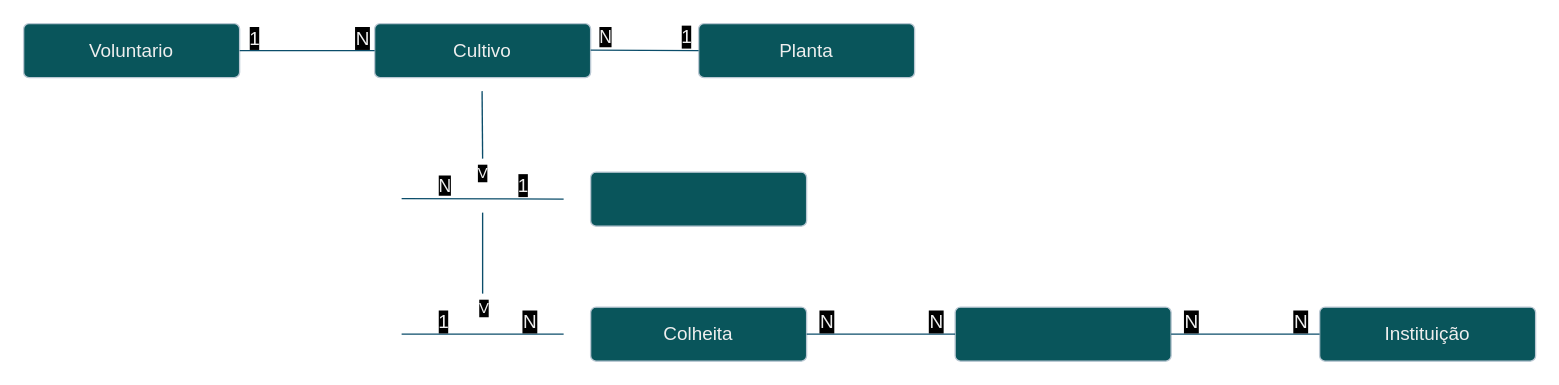
The diagram is 1559 pixels wide and 385 high, and some of its shapes have lost their labels. The centre of each missing label's shape, as x and y in pixels:
Canteiro: [698,198]
Doação: [1062,333]
